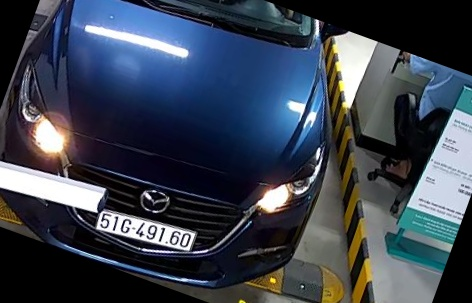plate: (96, 203, 208, 251)
